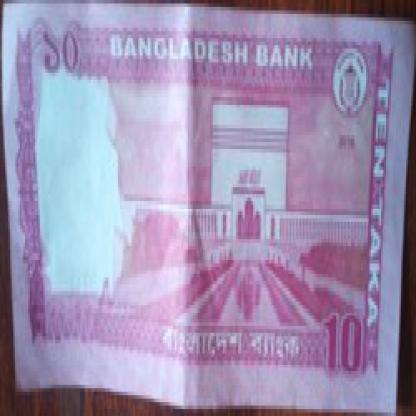Ten Taka: (313, 298, 366, 381), (40, 24, 83, 83)
